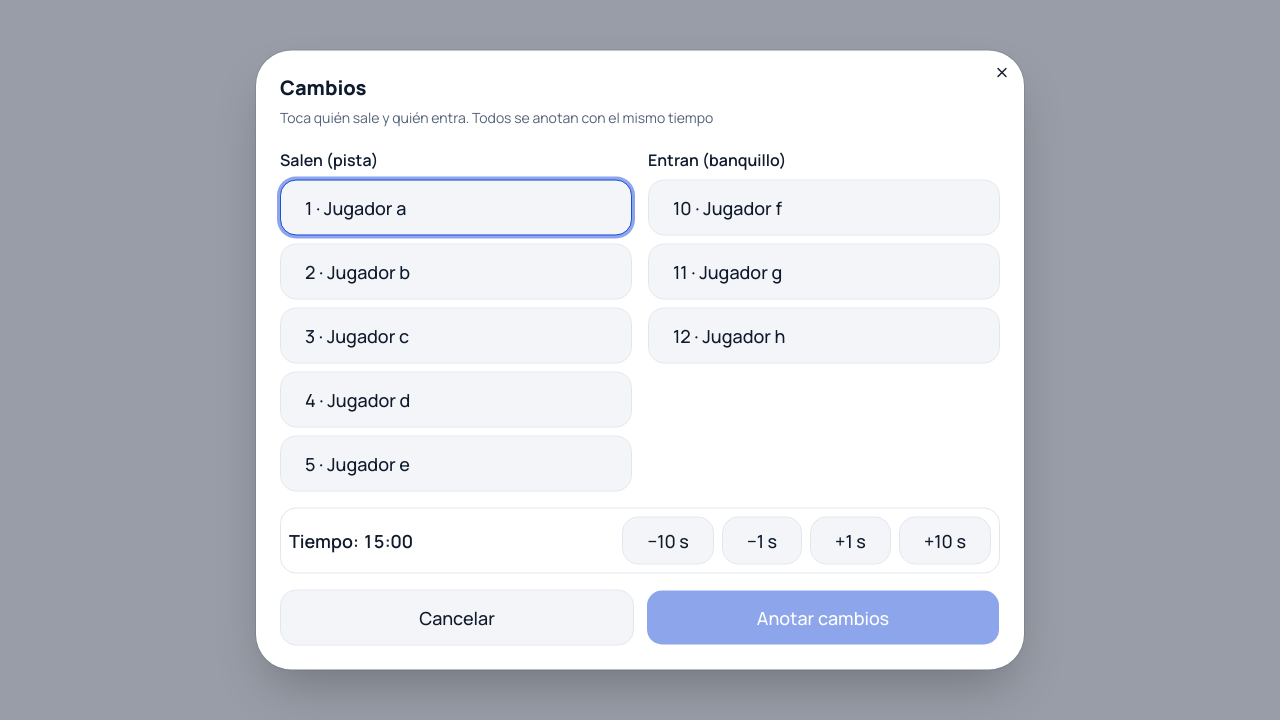
MultiSubstitutionDialog › el tiempo se puede corregir antes de anotar, sin pasar del último movimiento
Later steps or results of the test are not shown.
Click the button "1 · Jugador a". click: point(365, 208)
box: x1=280 y1=180 x2=632 y2=236
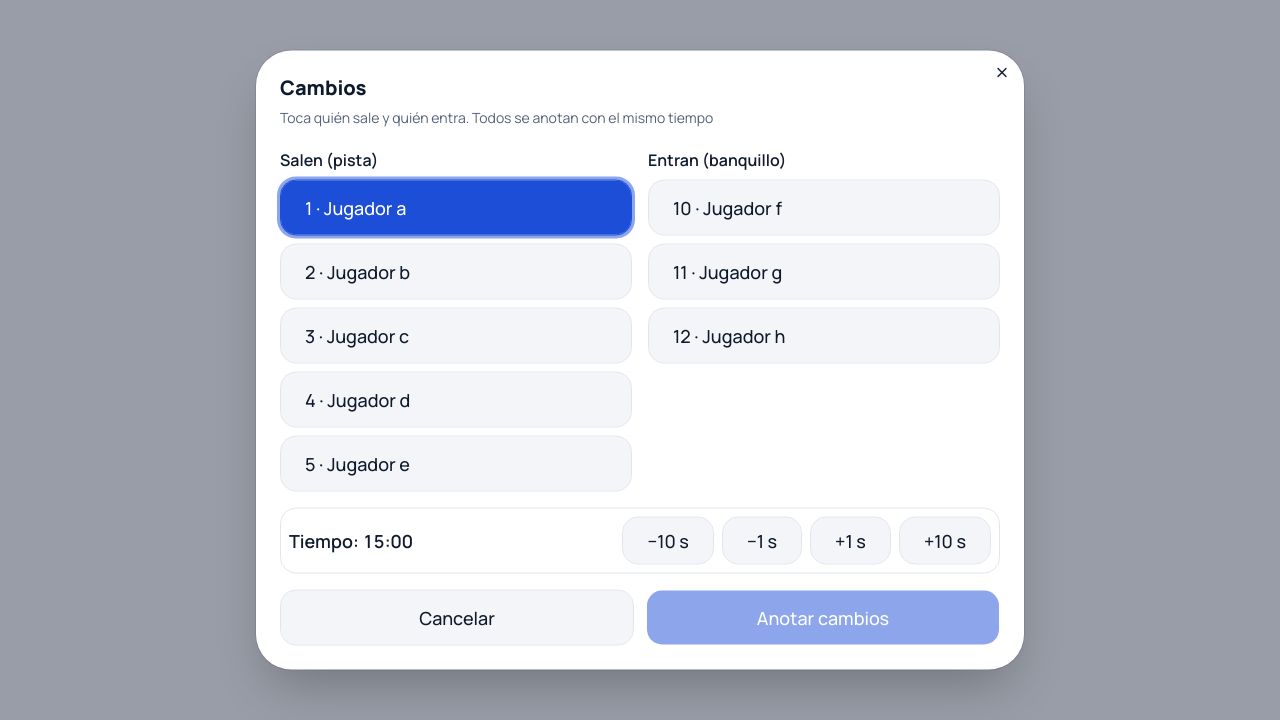
Click the button "10 · Jugador f". click: point(743, 208)
box: x1=648 y1=180 x2=1000 y2=236
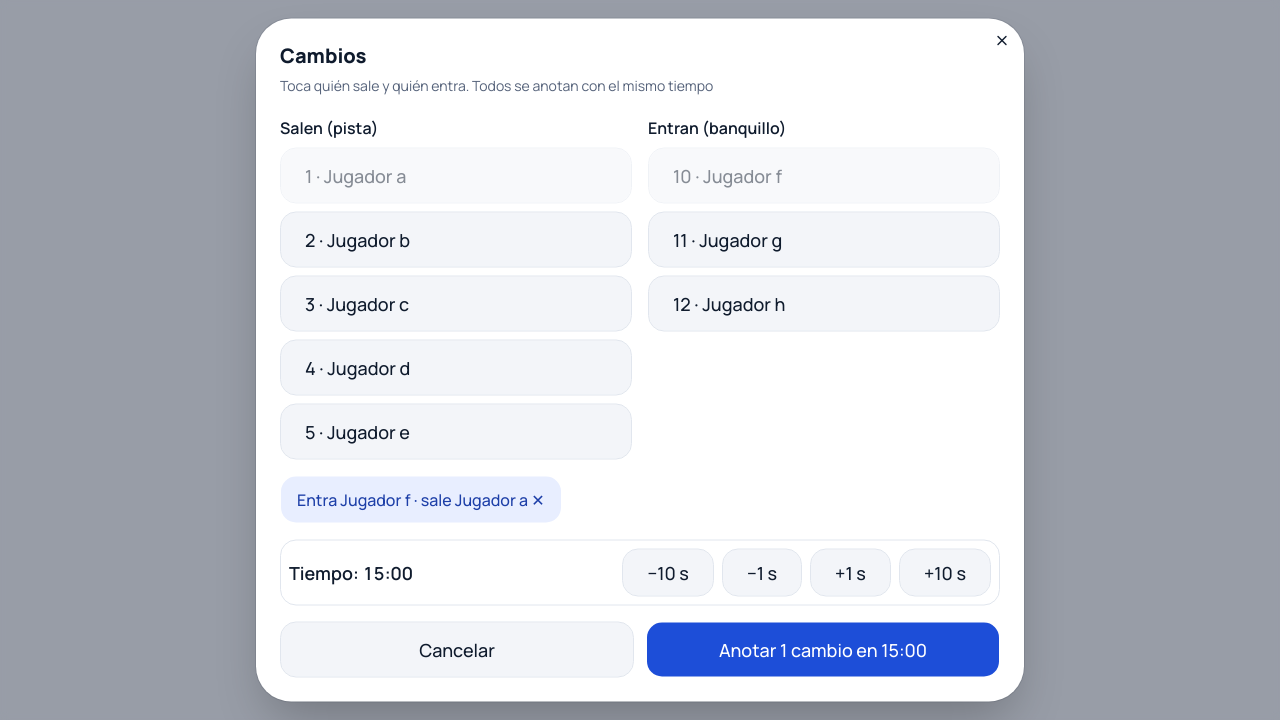
Click the button named "10 segundos antes". click: point(668, 572)
box: x1=622 y1=548 x2=714 y2=596
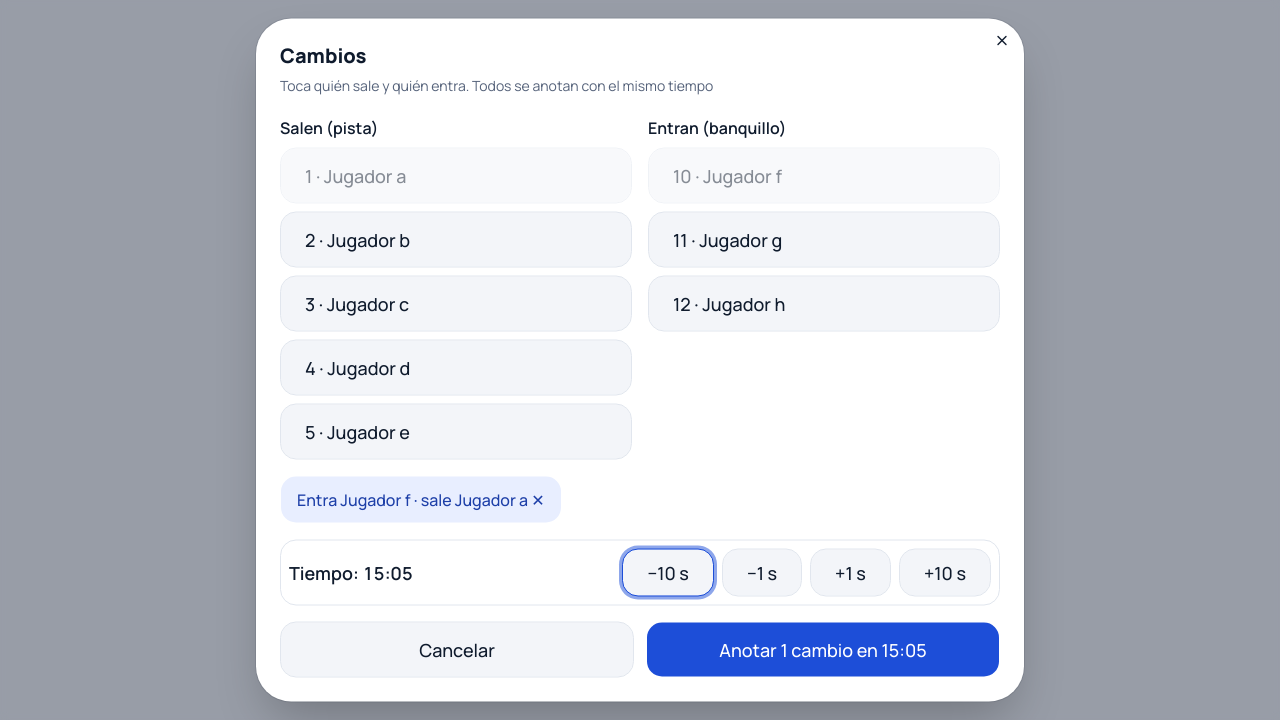
Result: the text "Tiempo: 15:05" is shown at x1=289 y1=558 x2=413 y2=586
